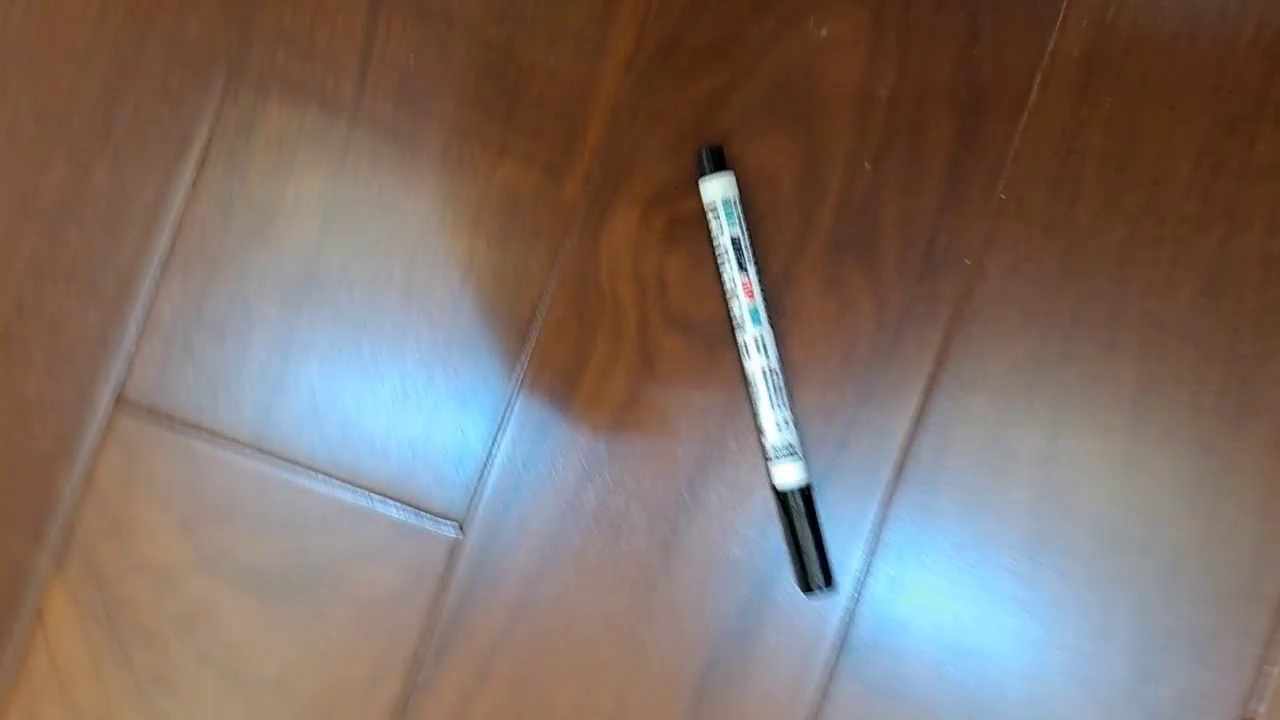pen: (693, 142, 839, 600)
